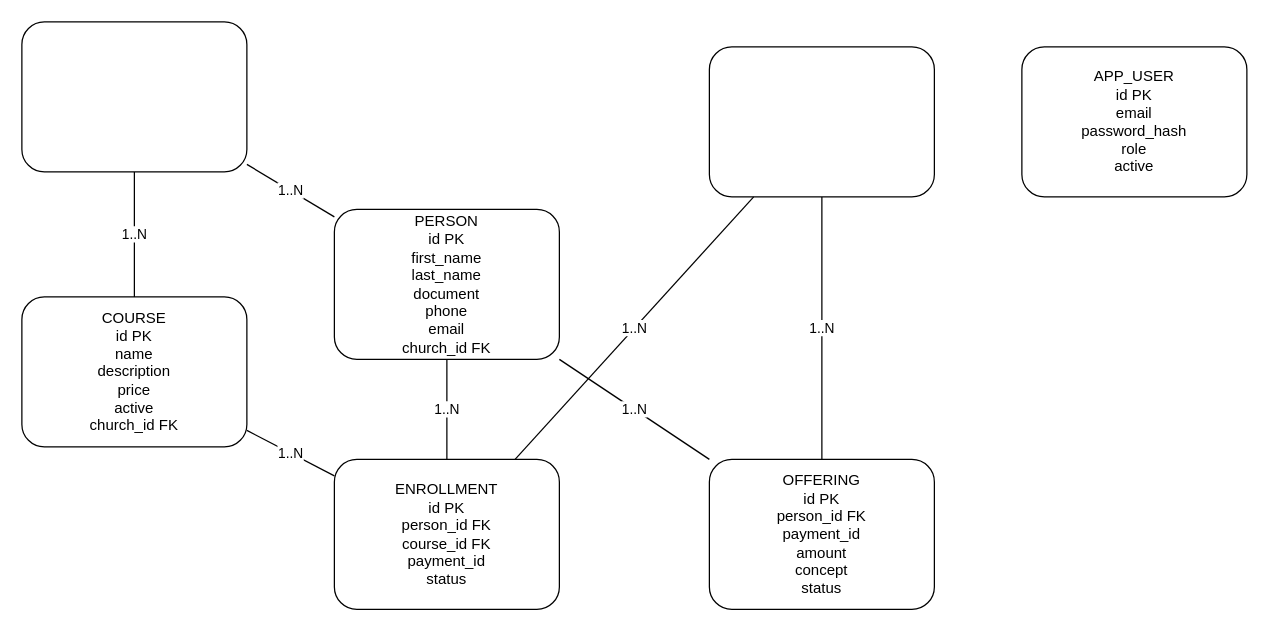
The diagram is 1269 pixels wide and 631 high, and some of its shapes have lost their labels. The shapes that lost their labels are listed below. From the top down, each one's centre as x and y in pixels, then its label:
the point at 134,96: CHURCH id PK name address created_at
the point at 821,121: PAYMENT id PK type status amount attempts reference_id
